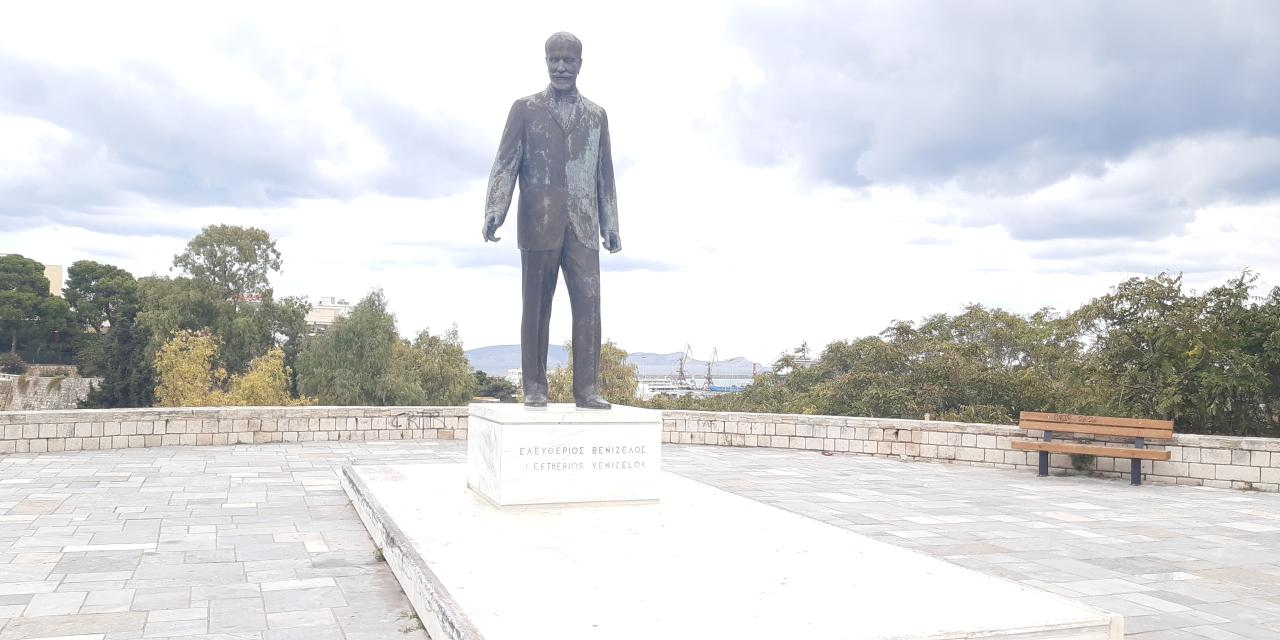Venizelos: (482, 35, 621, 411)
